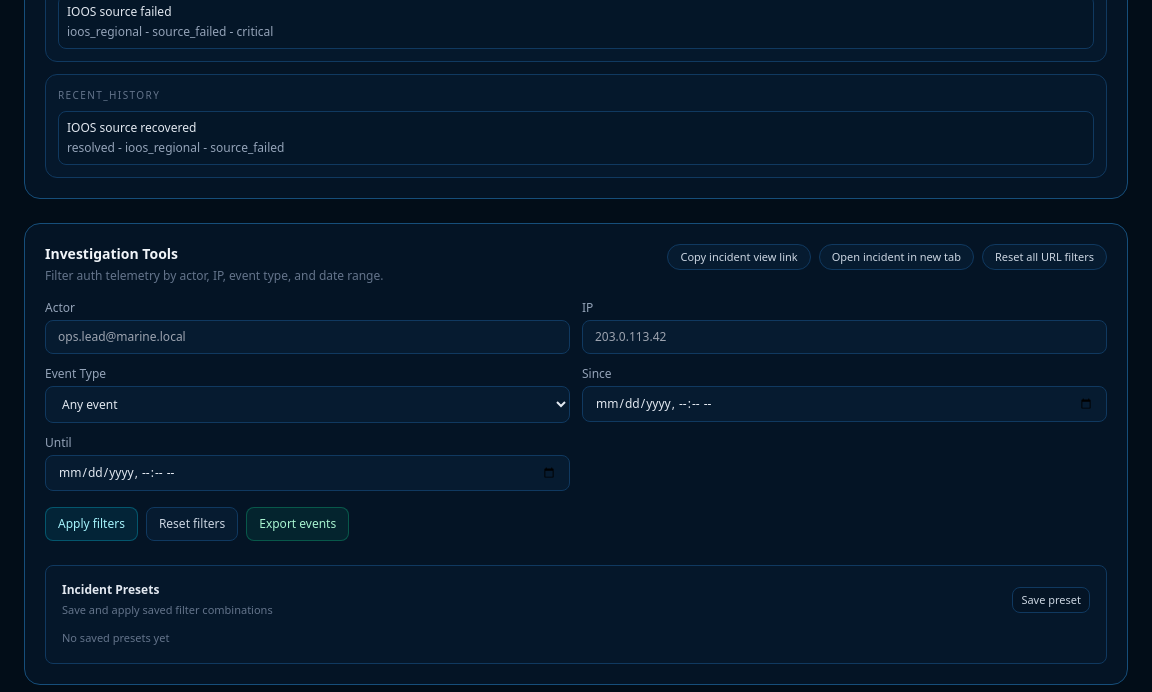
it: security console filter UI applies actor and ip investigation filters
(page scrolled)
Type "pilot.filter@marine.local" into the field labelled "Actor".
click(308, 336); type("pilot.filter@marine.local")  # box [45, 320, 570, 354]
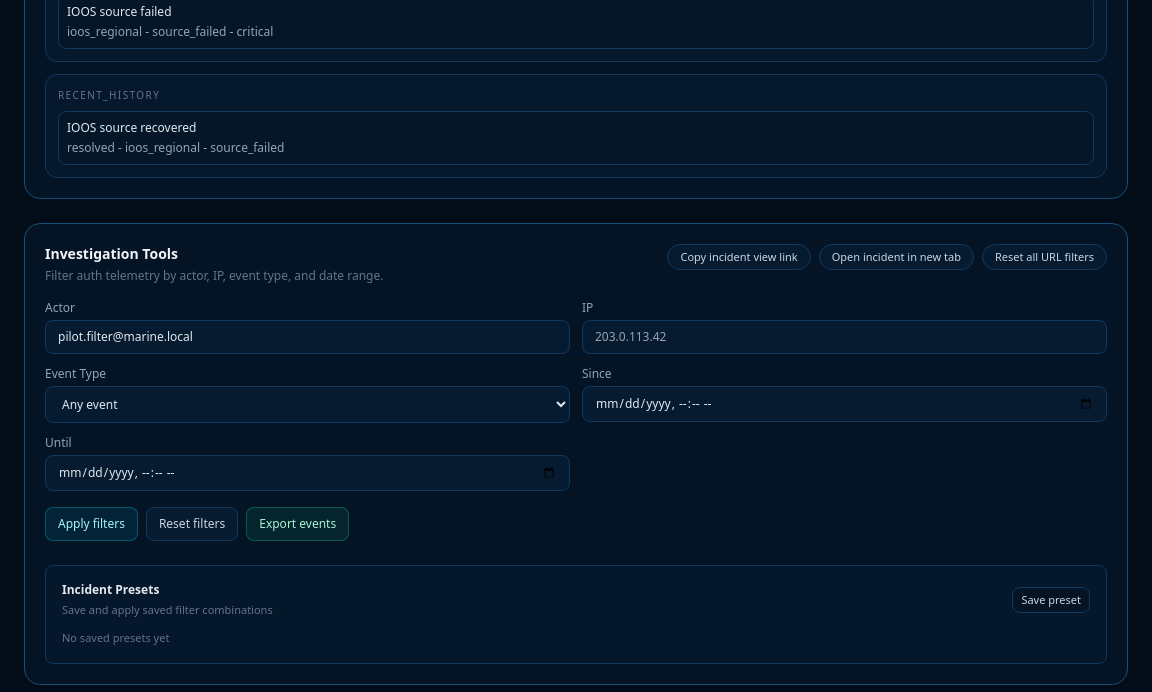
Type "198.51.100.33" into the field labelled "IP".
click(844, 336); type("198.51.100.33")  # box [582, 320, 1107, 354]
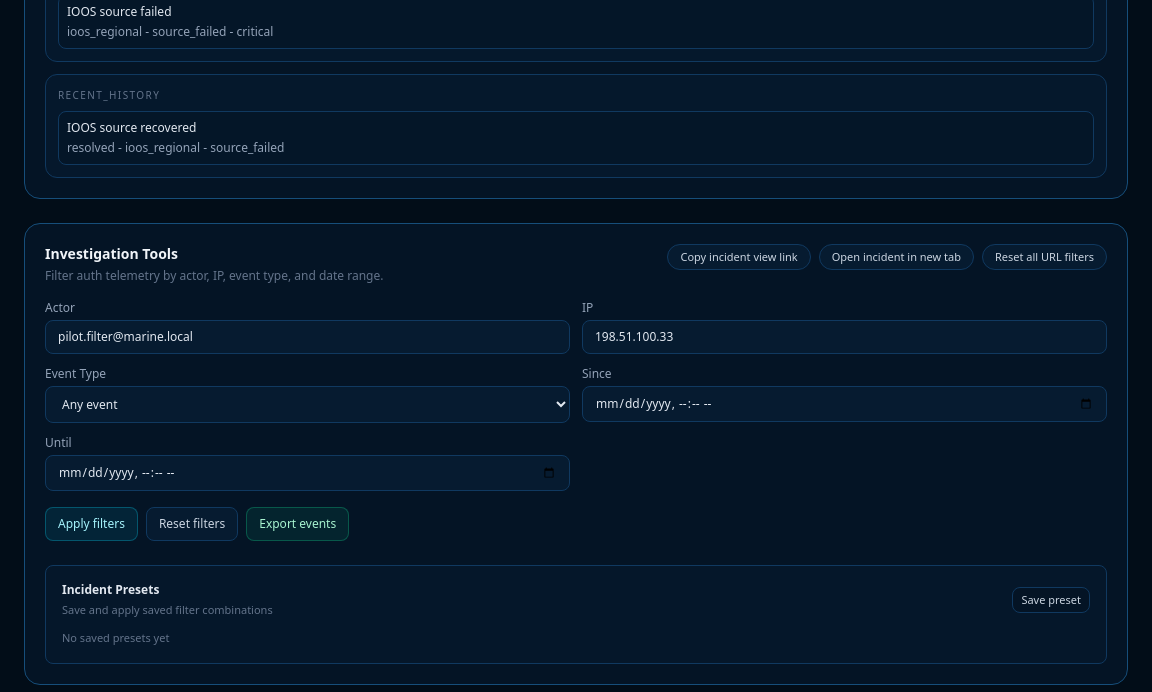
Select "login_failure" in the dropdown labelled "Event Type" at (308, 404), box [45, 386, 570, 422]
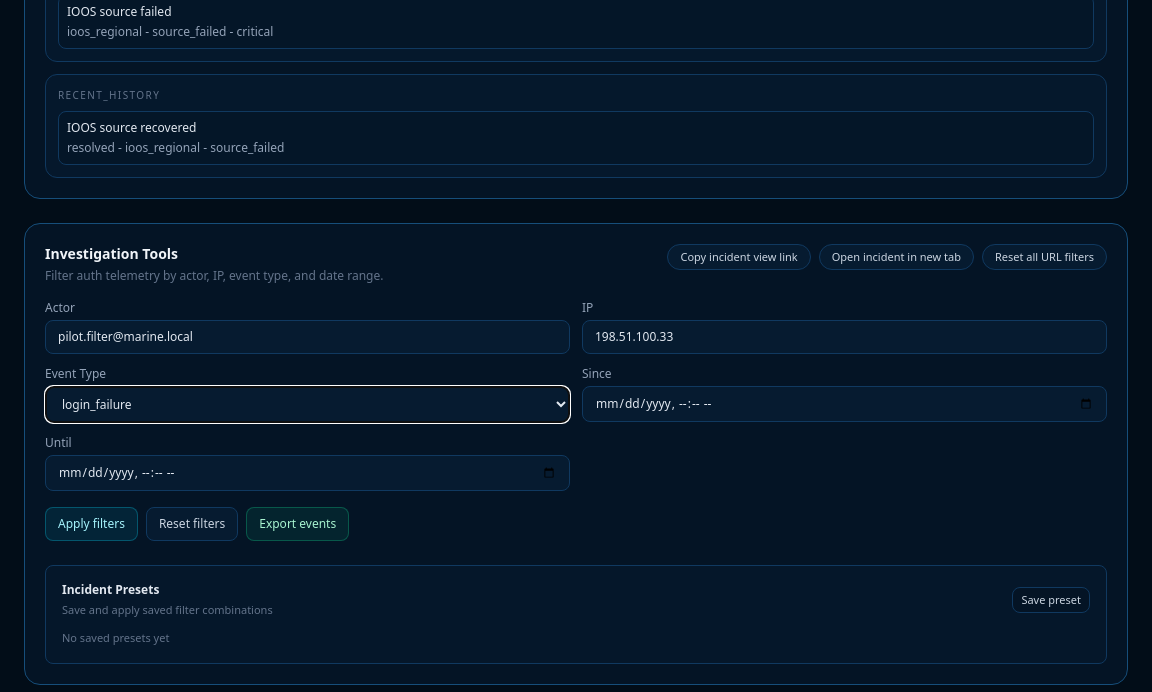
Click the button "Apply filters".
click(91, 524)  # box [45, 506, 138, 540]
(page scrolled)
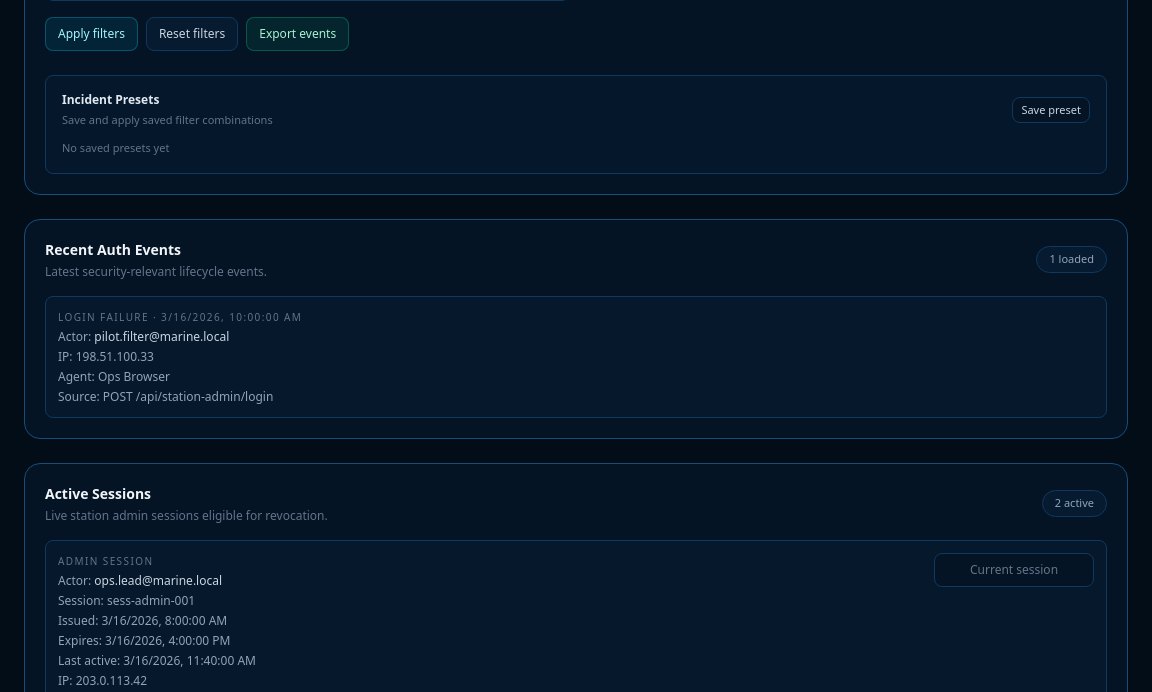
expect the text "Actor: pilot.filter@marine.local" is shown: met, box [58, 328, 229, 344]
